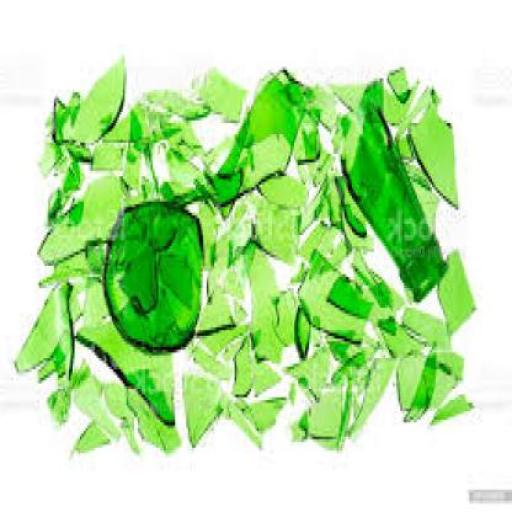glass: (348, 101, 448, 294), (105, 199, 208, 350), (208, 62, 314, 190), (80, 316, 182, 434), (39, 174, 125, 263), (60, 54, 136, 142), (407, 92, 464, 198), (301, 244, 373, 327), (16, 279, 74, 378), (216, 125, 290, 202), (344, 341, 402, 434), (244, 238, 289, 356), (331, 338, 382, 437), (398, 346, 467, 406), (73, 358, 123, 437), (128, 383, 186, 450), (437, 240, 479, 326), (120, 238, 168, 308), (186, 369, 228, 448), (196, 67, 250, 124), (255, 201, 304, 263), (406, 338, 443, 420), (43, 240, 112, 282), (354, 252, 404, 308), (404, 72, 446, 136), (380, 310, 436, 358), (394, 126, 436, 188), (216, 204, 258, 260), (197, 280, 240, 333), (309, 377, 348, 434), (303, 221, 352, 266), (147, 86, 214, 118), (401, 305, 452, 347), (160, 246, 193, 310), (54, 87, 86, 151), (290, 347, 332, 394), (77, 272, 111, 330), (238, 394, 289, 432), (335, 168, 370, 221), (338, 70, 382, 112), (326, 277, 374, 314), (123, 131, 153, 188), (293, 120, 327, 170), (201, 322, 257, 352), (106, 378, 148, 417), (232, 338, 258, 400), (89, 136, 131, 174), (174, 143, 210, 187), (307, 84, 344, 126), (268, 173, 313, 207), (230, 397, 264, 442), (274, 280, 300, 338), (196, 193, 218, 260), (338, 381, 360, 447), (40, 336, 72, 380), (106, 100, 141, 140), (414, 179, 440, 232), (46, 196, 86, 230), (40, 128, 72, 170), (73, 416, 112, 448), (390, 64, 419, 106), (205, 128, 237, 166), (330, 109, 357, 154), (434, 392, 473, 423), (130, 106, 162, 143), (169, 114, 201, 149), (194, 342, 236, 368), (256, 355, 282, 392), (62, 160, 88, 196), (151, 213, 183, 240), (300, 308, 318, 352), (222, 262, 246, 294), (316, 145, 335, 185), (294, 405, 313, 445), (51, 380, 70, 418), (139, 170, 158, 205), (65, 132, 95, 154), (179, 126, 205, 151), (205, 260, 223, 294), (388, 76, 400, 120), (330, 333, 352, 357), (294, 261, 312, 288), (151, 101, 168, 128), (52, 184, 72, 206), (126, 420, 142, 444), (382, 310, 402, 328), (300, 163, 314, 187), (47, 104, 59, 129), (235, 297, 247, 321), (166, 182, 180, 198), (168, 112, 178, 132), (290, 384, 298, 400)
